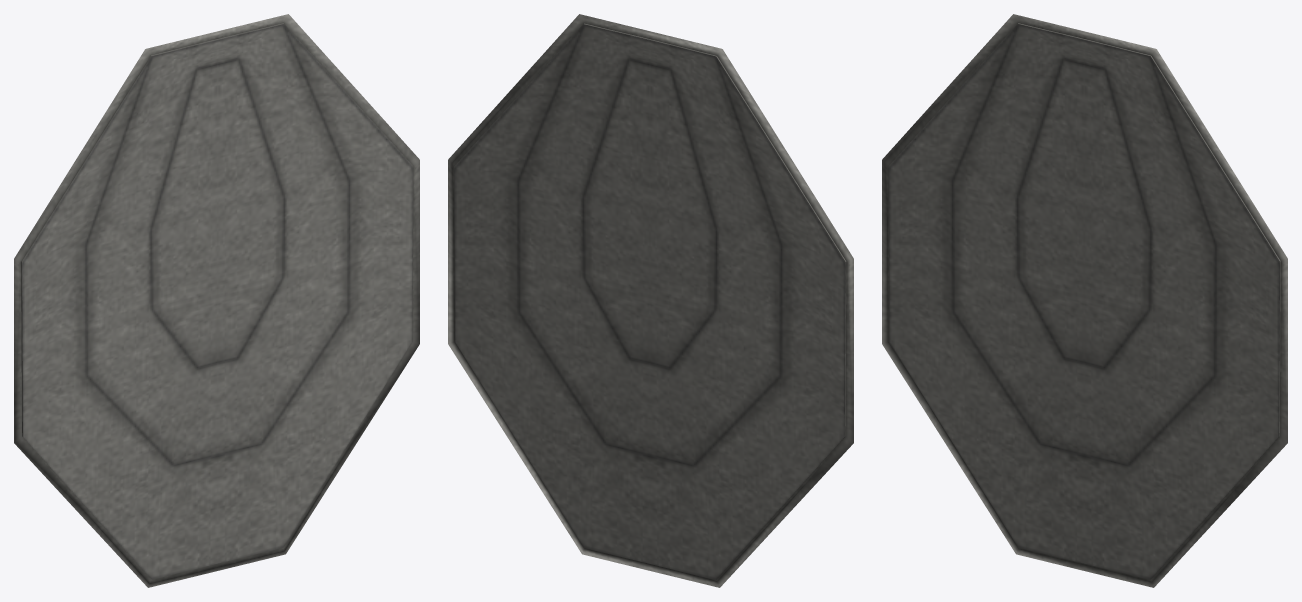
File: IPSC 纸靶白色.FBX
The picture shows the model from 3 angles, left to right: view 1: azimuth 30°, elevation 25°; view 2: azimuth 150°, elevation 25°; view 3: azimuth 330°, elevation 25°; orthographic projection.
Visible parts, largest first — view 1: Object75; view 2: Object75; view 3: Object75.
Boxes of the visible parts, left/top/right/bottom form: Object75: left=14, top=14, right=419, bottom=587; Object75: left=448, top=14, right=853, bottom=587; Object75: left=882, top=14, right=1287, bottom=587.
Size of the model in its own units: 10.38 by 0.0813 by 13.18.
